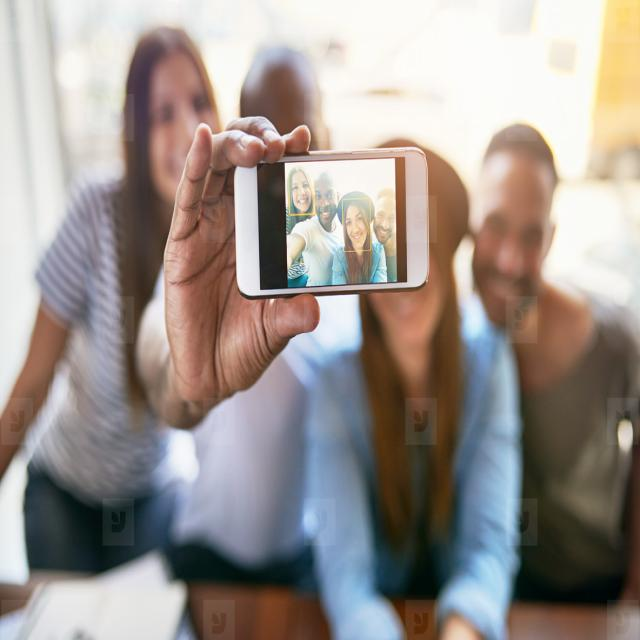device: (230, 143, 432, 299)
